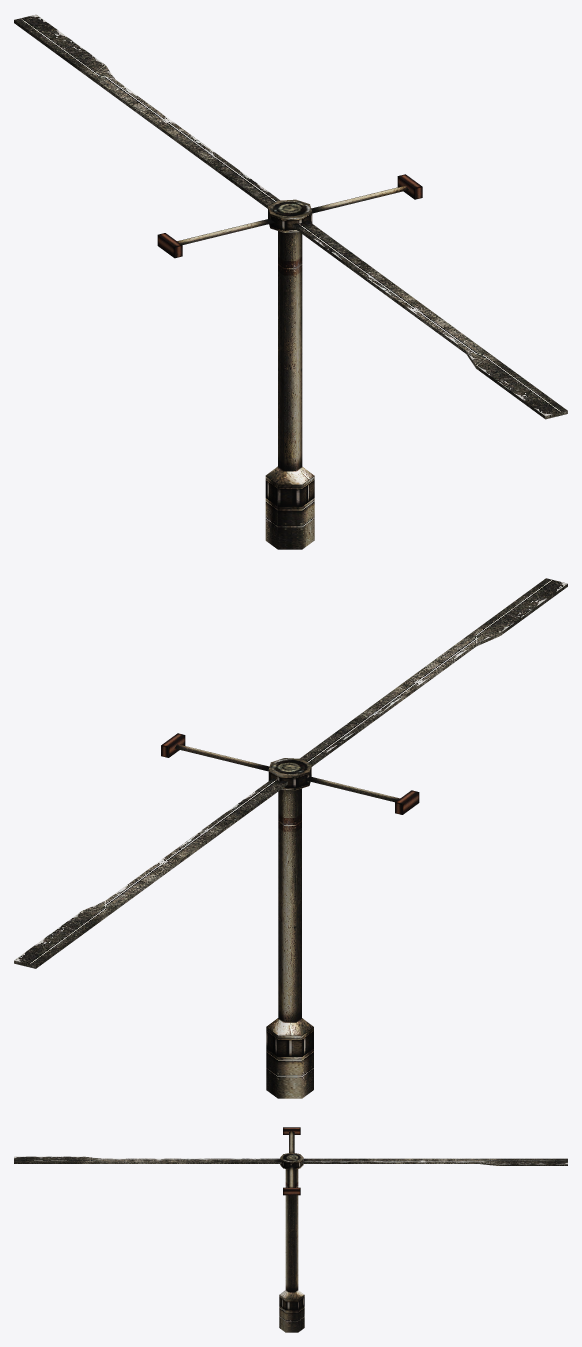
Rendered from construct_windmill_blades.fbx.
3 renders of one model, top to bottom at view 1: azimuth 30°, elevation 25°; view 2: azimuth 150°, elevation 25°; view 3: azimuth 270°, elevation 25°, orthographic. The views are drawn at different scales.
Visible parts, largest first — view 1: mesh_0; view 2: mesh_0; view 3: mesh_0.
Part boxes in pixels (x1,y1,x2,y2): mesh_0: (14,14,567,549); mesh_0: (14,578,567,1098); mesh_0: (14,1127,567,1332).
Size of the model in its own units: 826 by 1056 by 3110.
Materials: 1 (1 with a texture image).
